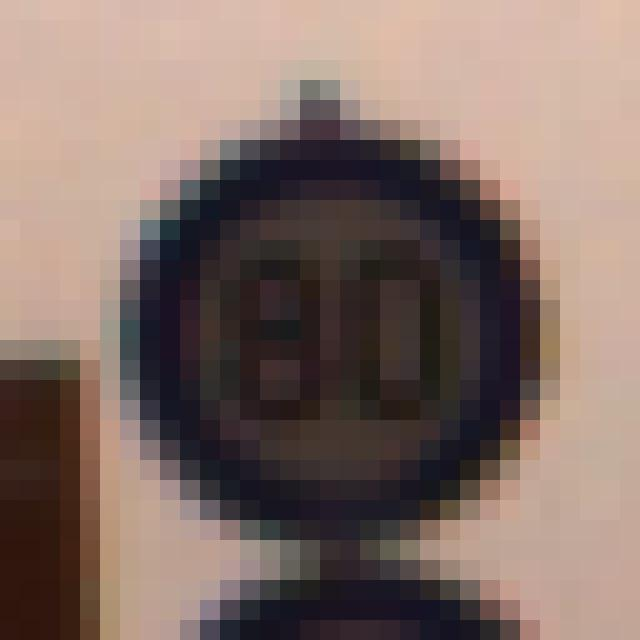SPEED-LIMIT-80: (125, 127, 534, 524)
